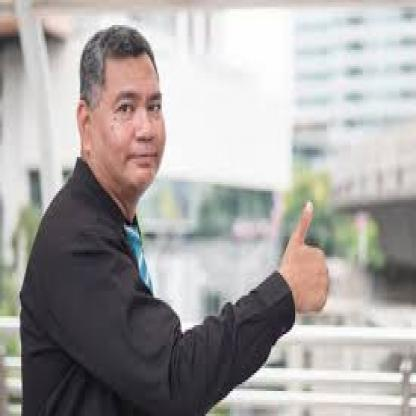thumb_up: (279, 197, 333, 318)
